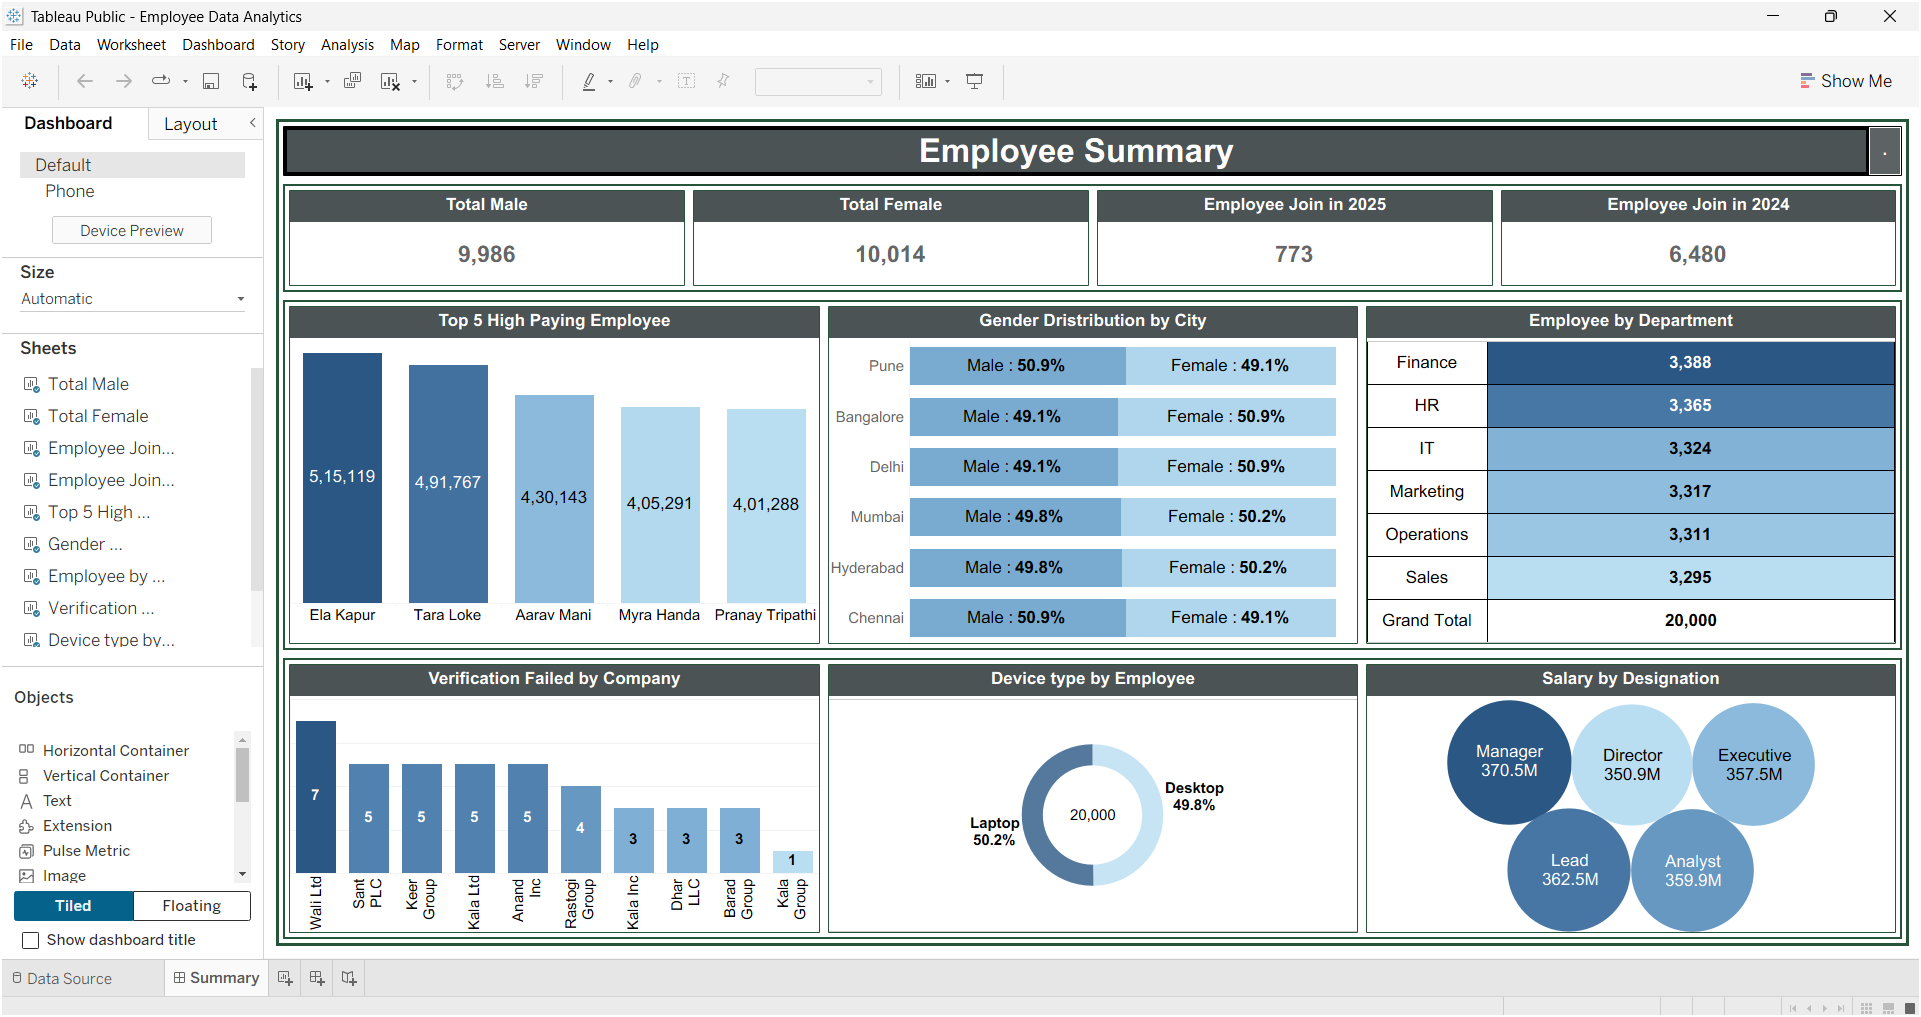

The page's visual inventory and layout, read from the dashboard file:
{"tool":"tableau","page":{"name":"Summary","canvas":[1000,1000],"units":"permille","ordinal":0},"visuals":[{"type":"text","box":[12,23.5,956.9,56.4]},{"type":"parameter","param":"[Parameters].[Parameter 0541289548808195]","box":[968.8,23.5,19.2,56.4]},{"type":"worksheet","title":"Total Male","mark":"Automatic","box":[12.6,92.8,243.9,122.2]},{"type":"worksheet","title":"Total Female","mark":"Automatic","box":[256.4,92.8,243.9,122.2]},{"type":"worksheet","title":"Employee Join in 2025","mark":"Automatic","box":[500.3,92.8,243.9,122.2]},{"type":"worksheet","title":"Employee Join in 2024","mark":"Automatic","box":[744.2,92.8,243.3,122.2]},{"type":"worksheet","title":"Top 5 High Paying Employee","mark":"Automatic","rows":["Salary"],"cols":["Employee Name"],"box":[12.6,229.1,325.4,406.6]},{"type":"worksheet","title":"Gender Dristribution by City","mark":"Automatic","rows":["Office Location"],"cols":["Employee_ID"],"box":[337.9,229.1,324.7,406.6]},{"type":"worksheet","title":"Employee by Department","mark":"Square","rows":["Department"],"box":[662.7,229.1,324.8,406.6]},{"type":"worksheet","title":"Verification Failed by Company","mark":"Automatic","rows":["Employee_ID (Background Verification)"],"cols":["Previous Company"],"box":[12.6,649.8,325.4,325.5]},{"type":"worksheet","title":"Device type by Employee","mark":"Pie","rows":["Calculation_0541289557544966","Calculation_0541289557544966"],"box":[337.9,649.8,324.7,325.5]},{"type":"worksheet","title":"Salary by Designation","mark":"Circle","box":[662.7,649.8,324.8,325.5]}]}

Visuals, with their boxes on the dashboard's canvas, which has no fixed pixel size, in thousandths of its width and height (x1, y1, x2, y2). These are canvas units, not pixel positions in the 1921x1017 screenshot, which may show the page scaled, cropped or inside an application window:
text: locate(12, 24, 969, 80)
parameter: locate(969, 24, 988, 80)
"Total Male" worksheet: locate(13, 93, 256, 215)
"Total Female" worksheet: locate(256, 93, 500, 215)
"Employee Join in 2025" worksheet: locate(500, 93, 744, 215)
"Employee Join in 2024" worksheet: locate(744, 93, 988, 215)
"Top 5 High Paying Employee" worksheet: locate(13, 229, 338, 636)
"Gender Dristribution by City" worksheet: locate(338, 229, 663, 636)
"Employee by Department" worksheet (Square marks): locate(663, 229, 988, 636)
"Verification Failed by Company" worksheet: locate(13, 650, 338, 975)
"Device type by Employee" worksheet (Pie marks): locate(338, 650, 663, 975)
"Salary by Designation" worksheet (Circle marks): locate(663, 650, 988, 975)
